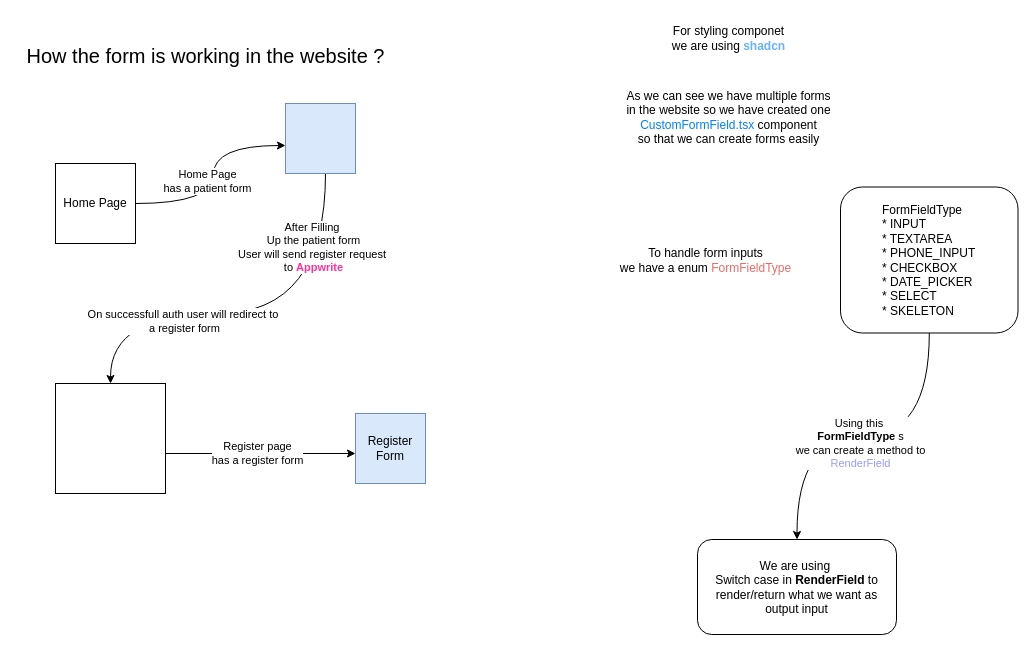
Image size: 1035x652. Some labels were removed from this diagram. Each missing label, with the centre of its shape:
Patient Form: the point at 320,138
Register Page: the point at 110,438
